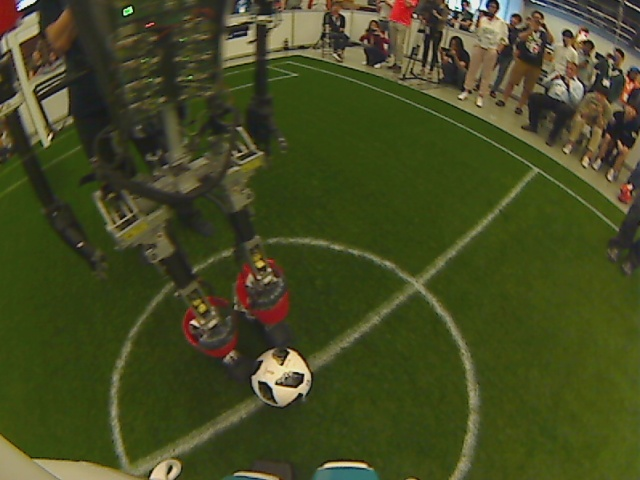ball: (253, 349, 311, 409)
goalpost: (25, 130, 63, 159)
robot: (182, 293, 297, 368)
